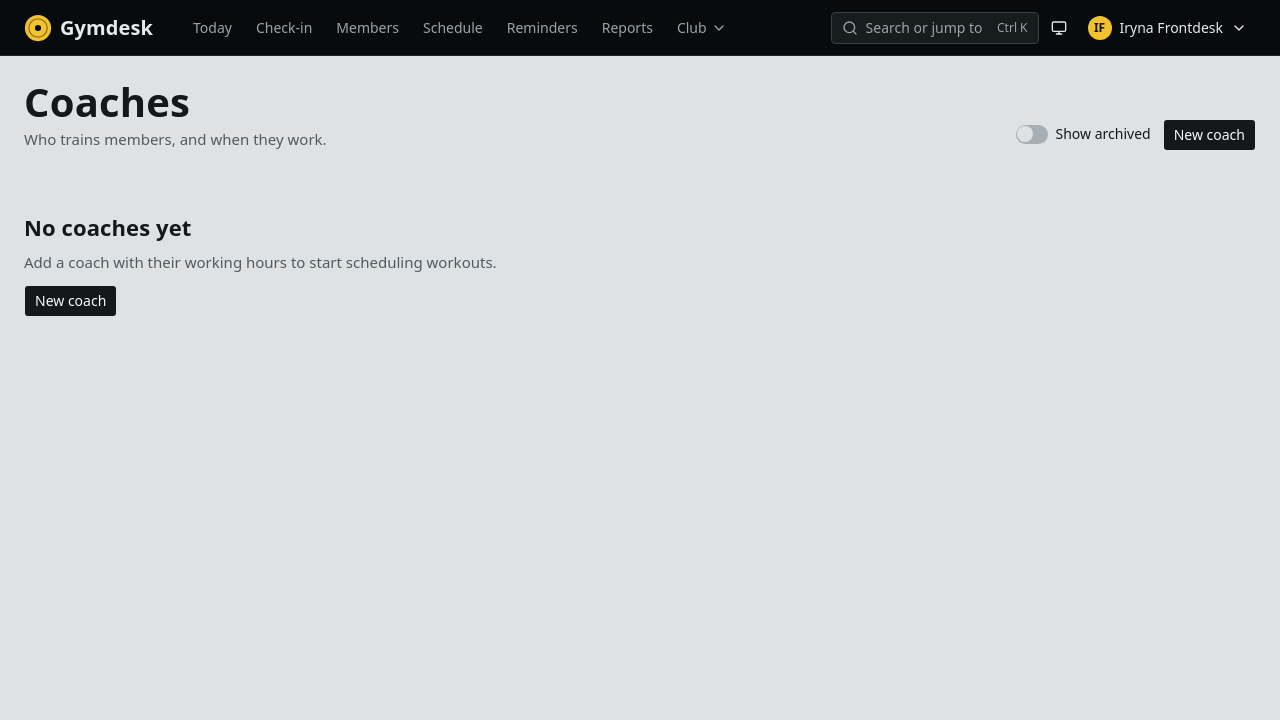
Test: adding a coach › explains missing names and overlapping windows before sending
Expected: the heading "Coaches" is shown, left=24, top=74, right=190, bottom=129
Click the button "New coach" next to "Show archived": (1209, 134) left=1163, top=118, right=1256, bottom=150
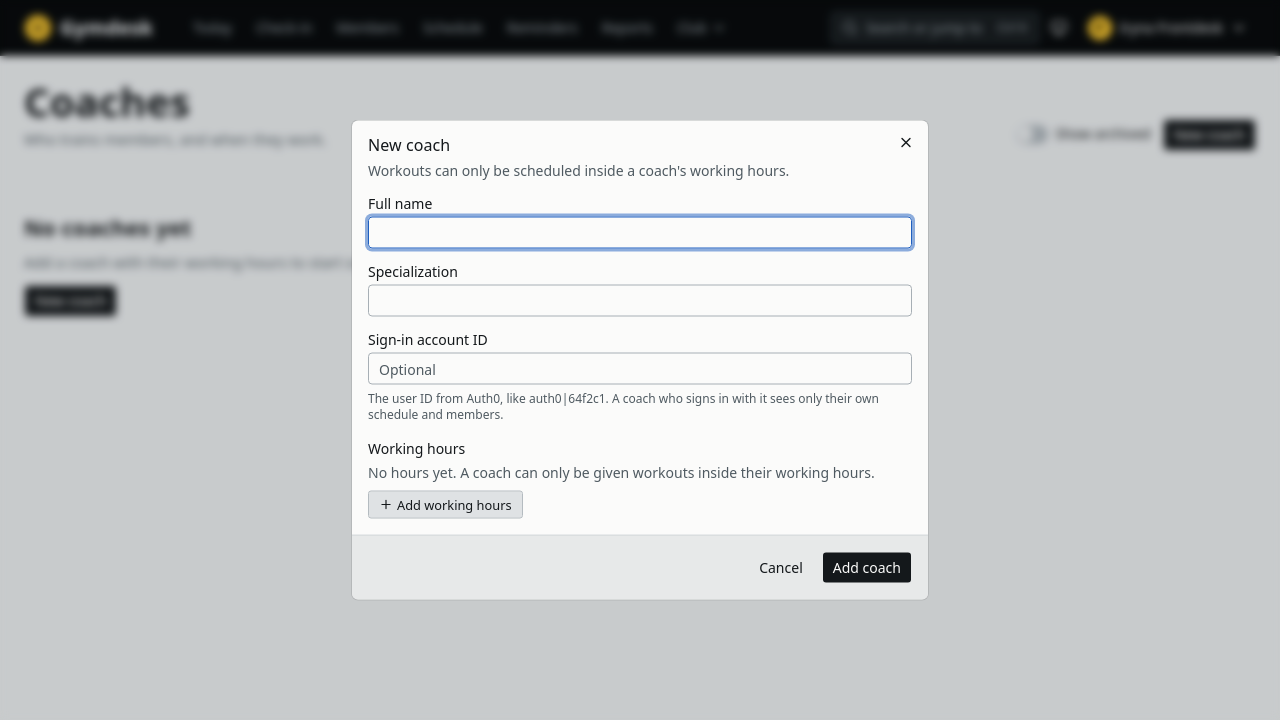
Click the button "Add working hours": (445, 504) left=368, top=490, right=522, bottom=518
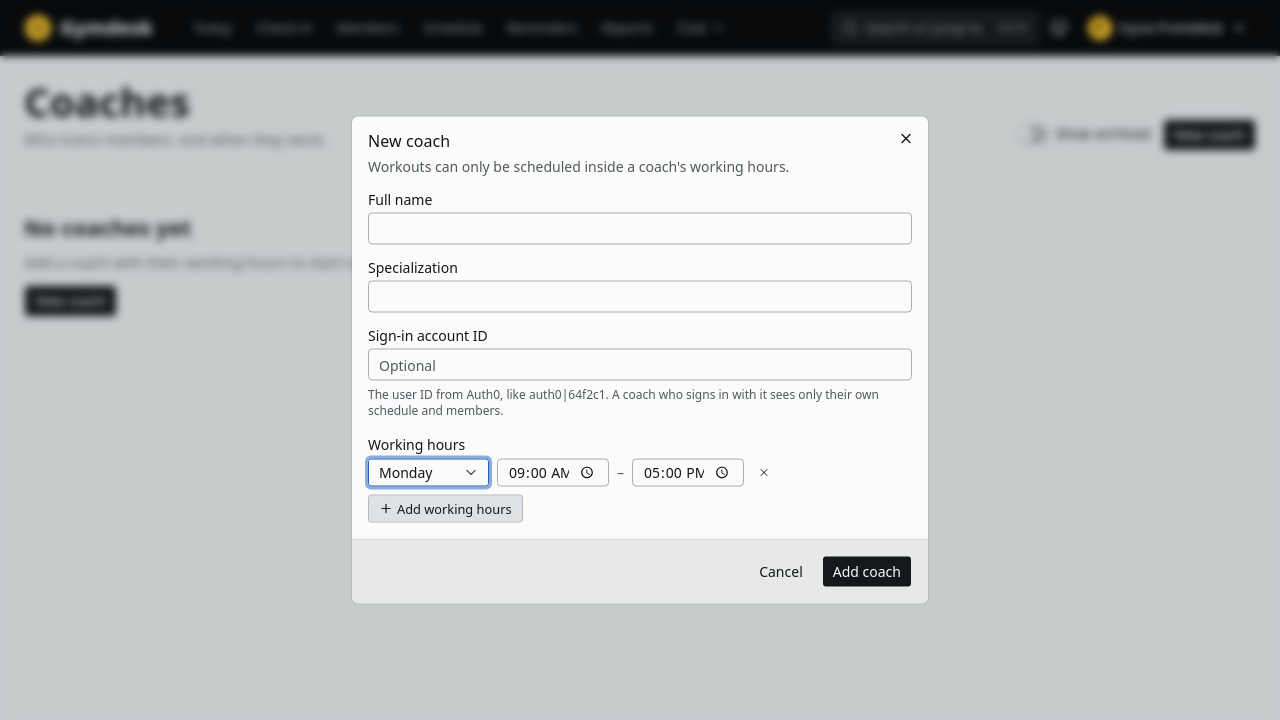
Click the button "Add working hours": (445, 508) left=368, top=494, right=522, bottom=522
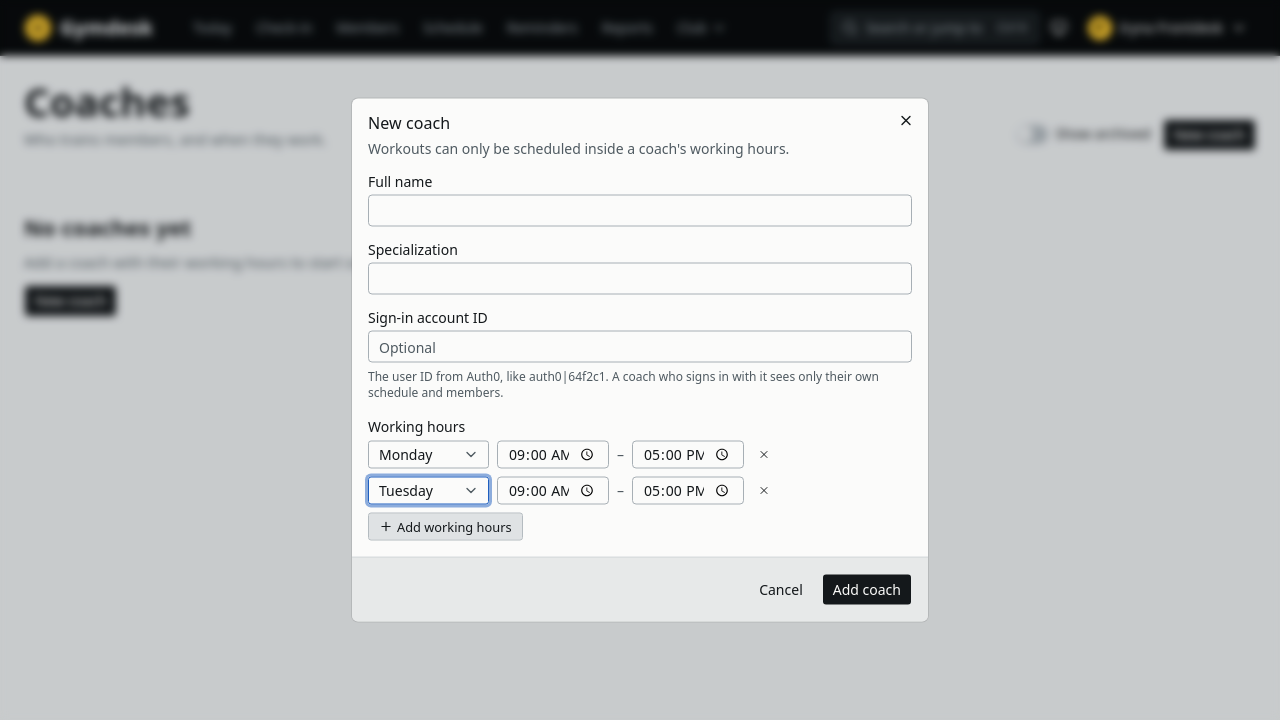
Select "Monday" in the dropdown named "Day for window 2": (428, 490) left=368, top=476, right=489, bottom=504
Replace the text in the time field named "Start of window 2" with "12:00": (553, 490) left=497, top=476, right=609, bottom=504
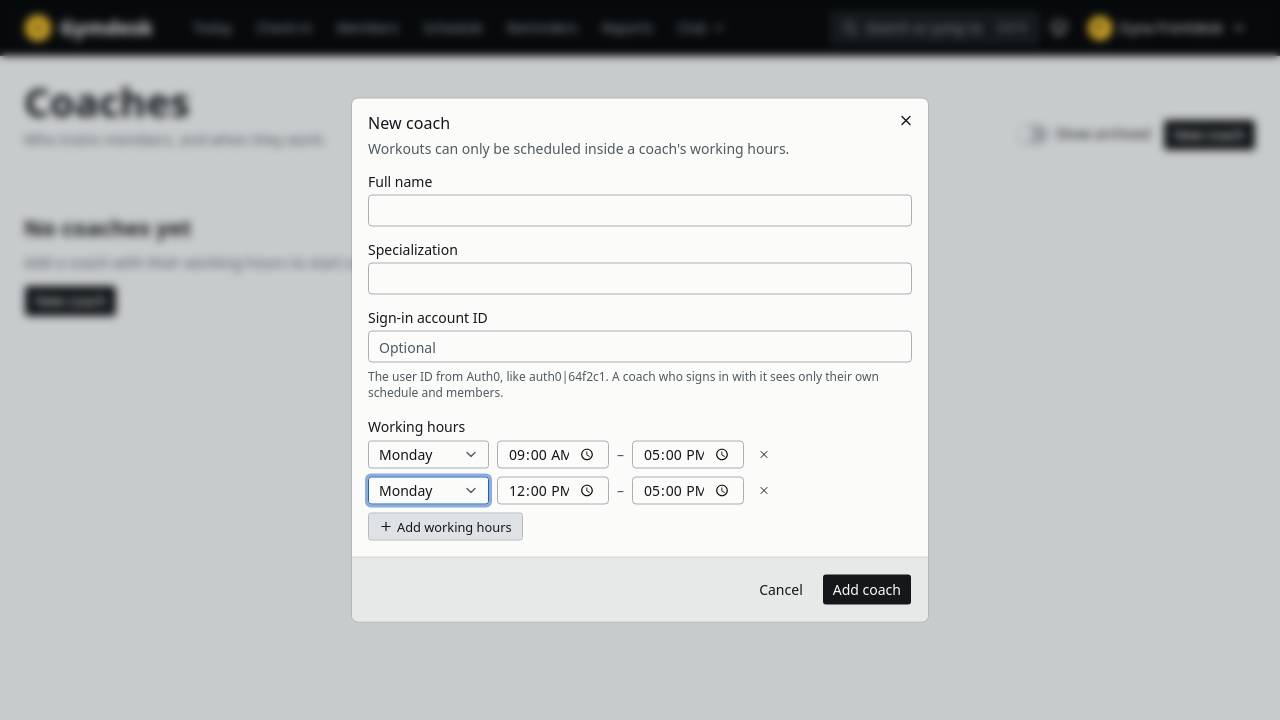
Replace the text in the time field named "End of window 2" with "18:00": (688, 490) left=632, top=476, right=744, bottom=504
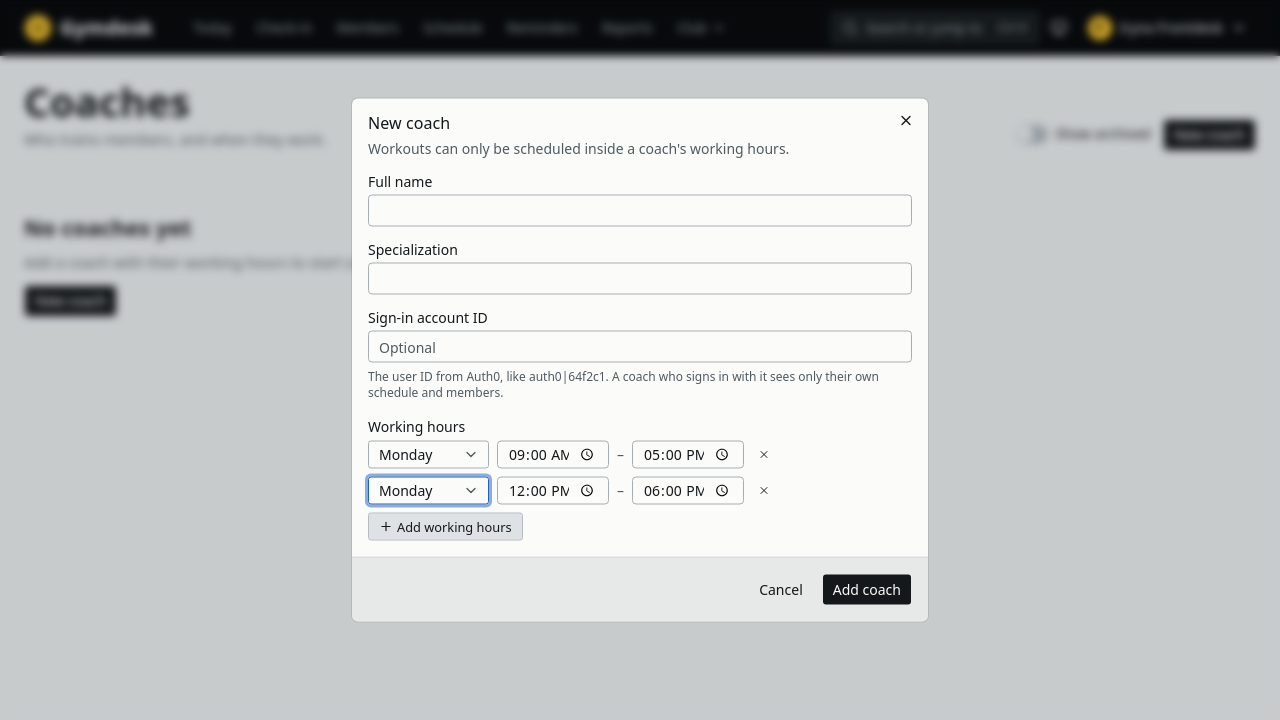
Click the button "Add coach": (867, 590) left=822, top=574, right=912, bottom=606
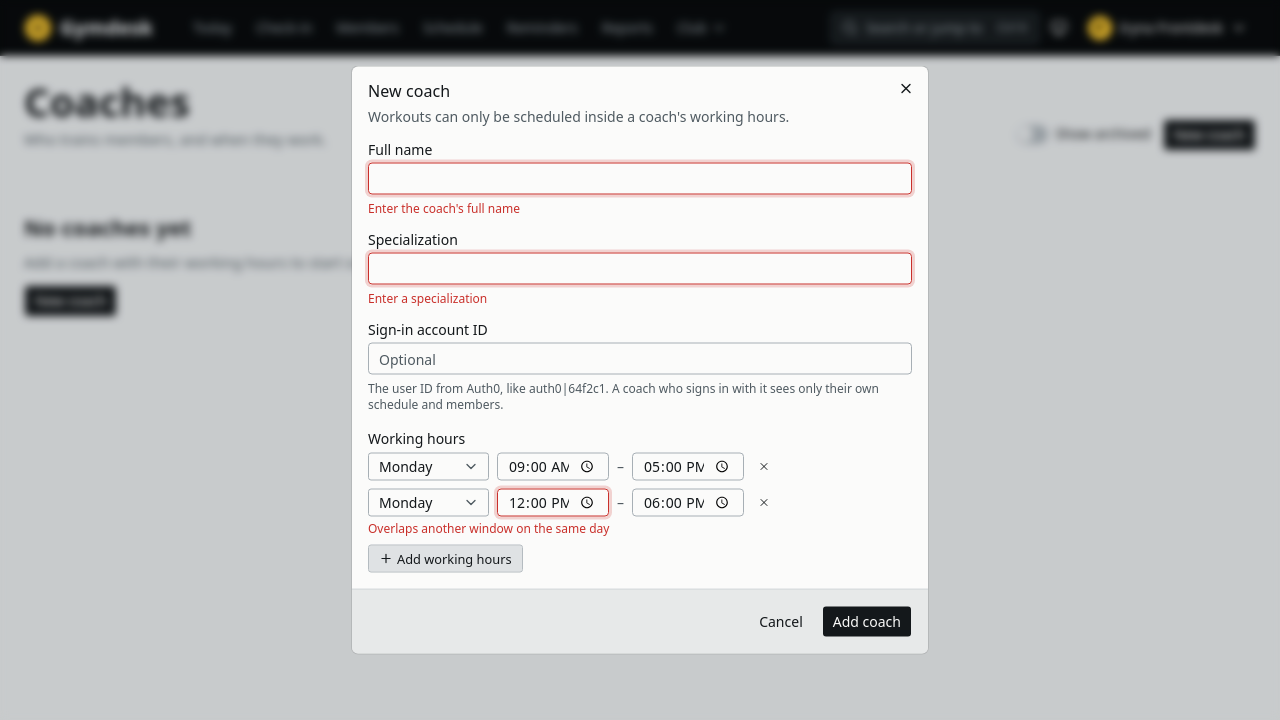
Expected: the text "Enter the coach's full name" is shown, left=368, top=200, right=520, bottom=216
Expected: the text "Enter a specialization" is shown, left=368, top=290, right=487, bottom=306
Expected: the text "Overlaps another window on the same day" is shown, left=368, top=520, right=609, bottom=536
